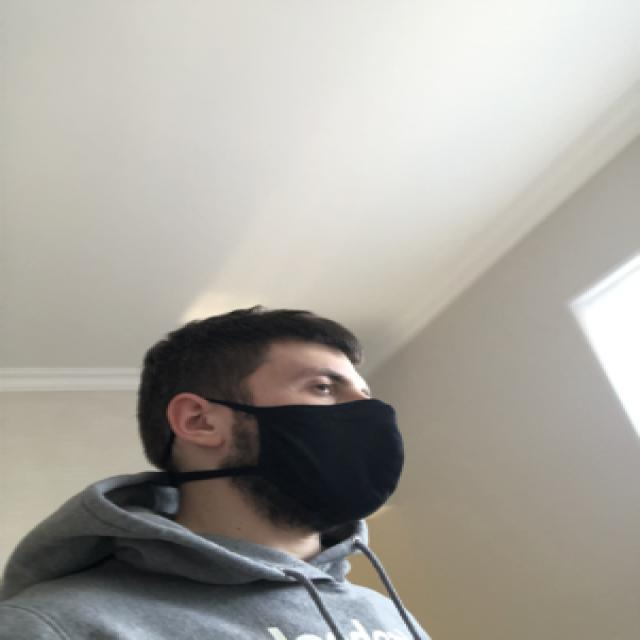mask: (230, 360, 406, 528)
